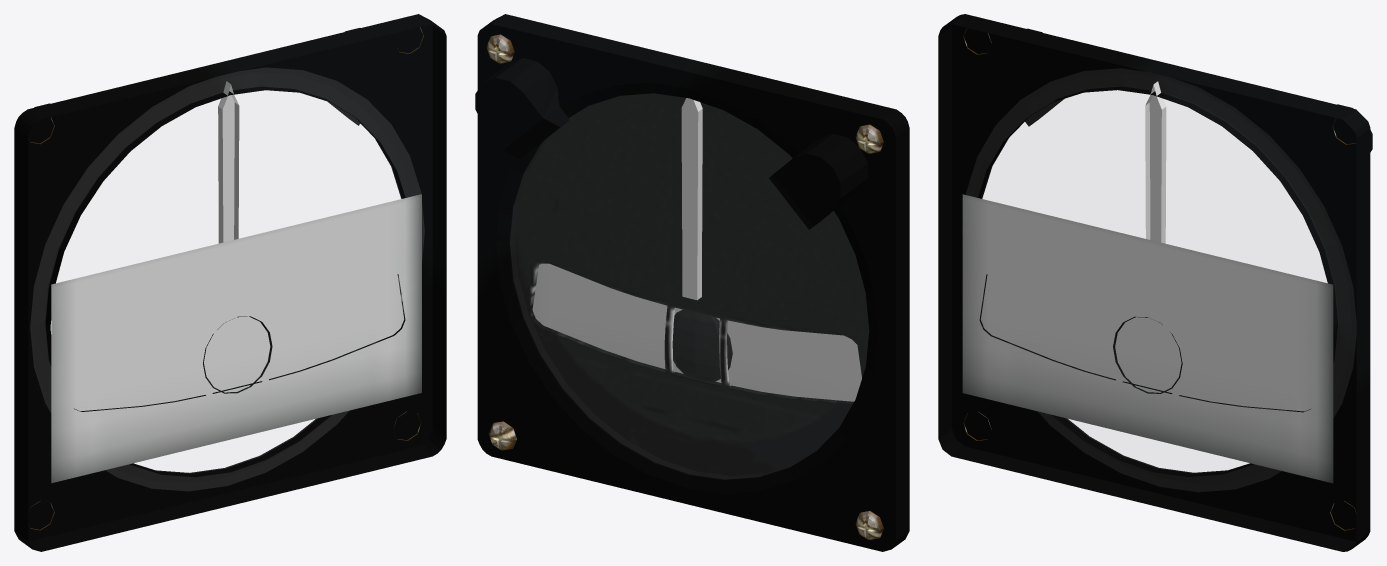
Rendered from turn.obj.
3 views of the same model, side by side, from view 1: azimuth 30°, elevation 25°; view 2: azimuth 150°, elevation 25°; view 3: azimuth 330°, elevation 25° (orthographic).
Visible parts, largest first — view 1: fond, background, vitre, needle, face; view 2: fond, vitre, face, background, needle, ball; view 3: fond, background, vitre, needle, face.
Boxes of the visible parts, <box> form: fond: <box>14,14,446,551</box>; background: <box>51,194,421,483</box>; vitre: <box>31,68,424,490</box>; needle: <box>218,81,239,243</box>; face: <box>74,274,405,411</box>; fond: <box>475,14,909,551</box>; vitre: <box>510,94,868,478</box>; face: <box>515,93,869,475</box>; background: <box>532,263,861,401</box>; needle: <box>681,98,702,300</box>; ball: <box>672,309,732,381</box>; fond: <box>938,14,1372,551</box>; background: <box>962,194,1333,483</box>; vitre: <box>966,69,1355,491</box>; needle: <box>1145,81,1166,243</box>; face: <box>979,274,1310,412</box>.
Bounding box in the file's own units: 0.0874 × 0.0863 × 0.0151.
Materials: 2 (1 with a texture image).
